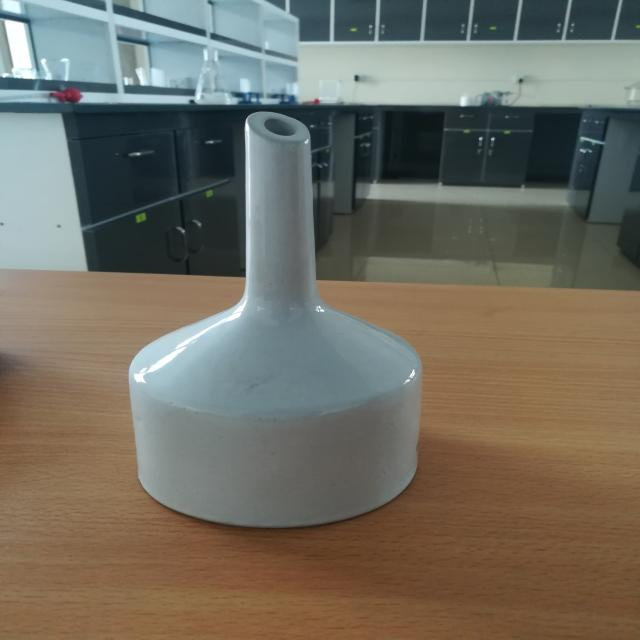Buchner_Funnel: (80, 89, 480, 566)
